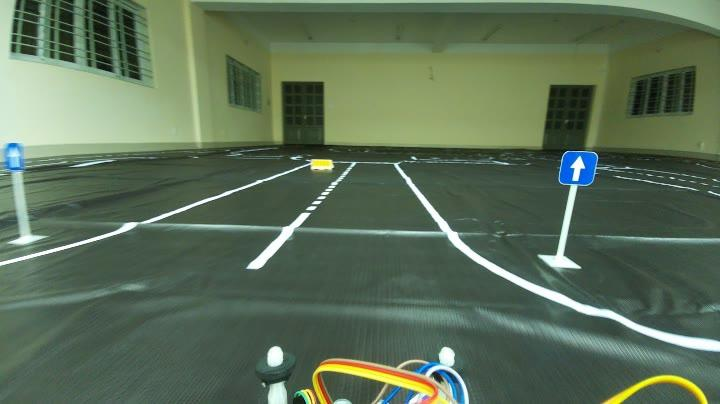onewayroad: (558, 149, 599, 191), (6, 141, 35, 178)
roadblock: (307, 155, 330, 169)
